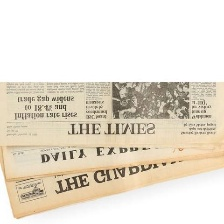news_paper: (0, 145, 224, 221), (0, 80, 224, 148), (1, 140, 223, 182)
